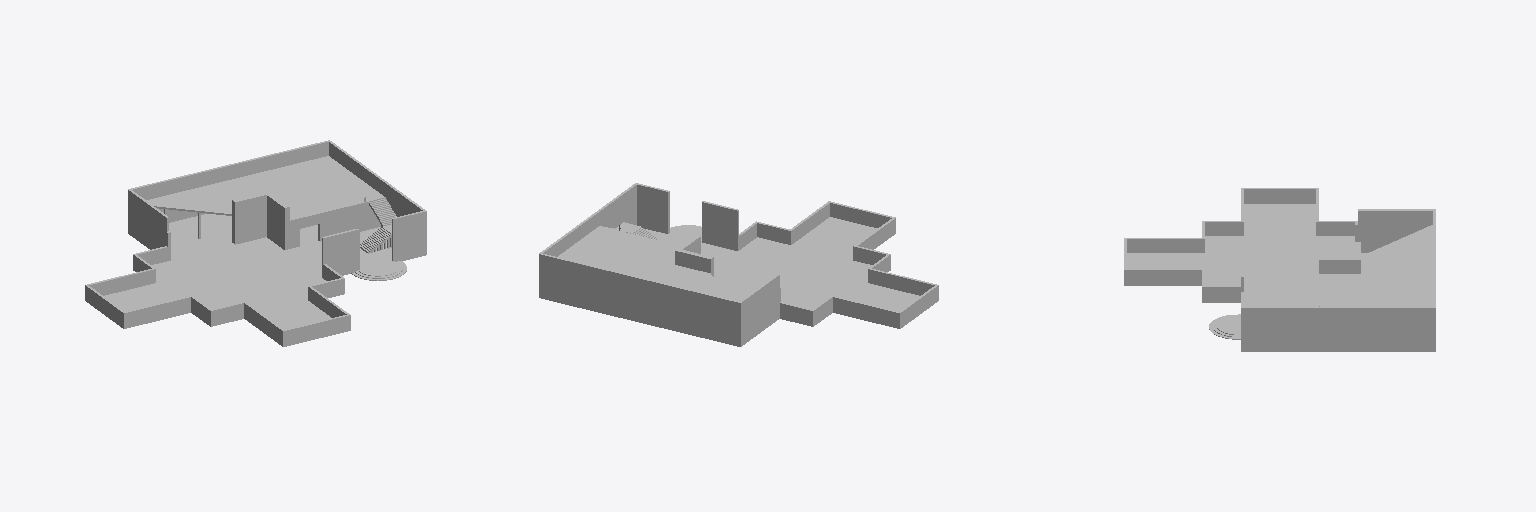
File: Newcomers_Guild_Attempt_1.obj
3 views of the same model, side by side, from view 1: azimuth 30°, elevation 25°; view 2: azimuth 150°, elevation 25°; view 3: azimuth 270°, elevation 25° (orthographic).
Parts seen in each view (by area): view 1: SketchUp; view 2: SketchUp; view 3: SketchUp.
Part boxes in pixels (x1,y1,x2,y2): SketchUp: (85,140,426,346); SketchUp: (539,183,938,346); SketchUp: (1124,188,1435,351).
Size of the model in its own units: 90 by 12.5 by 80.